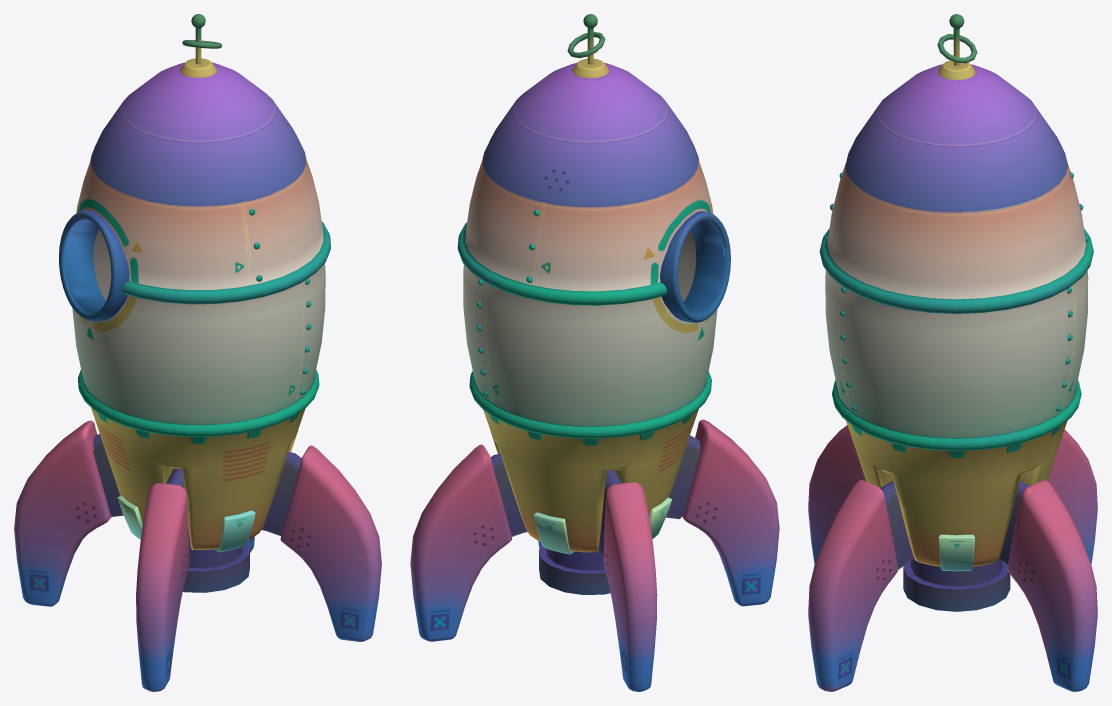
Rendered from rokek_basic_ingame.fbx.
3 renders of one model, left to right at view 1: azimuth 30°, elevation 25°; view 2: azimuth 150°, elevation 25°; view 3: azimuth 270°, elevation 25°, orthographic. The views are drawn at different scales.
Visible parts, largest first — view 1: roket3_low; view 2: roket3_low; view 3: roket3_low.
Boxes of the visible parts, bbox=[...] form: roket3_low: bbox=[14, 14, 381, 691]; roket3_low: bbox=[410, 14, 779, 691]; roket3_low: bbox=[808, 14, 1097, 691].
Size of the model in its own units: 347 by 824 by 347.
